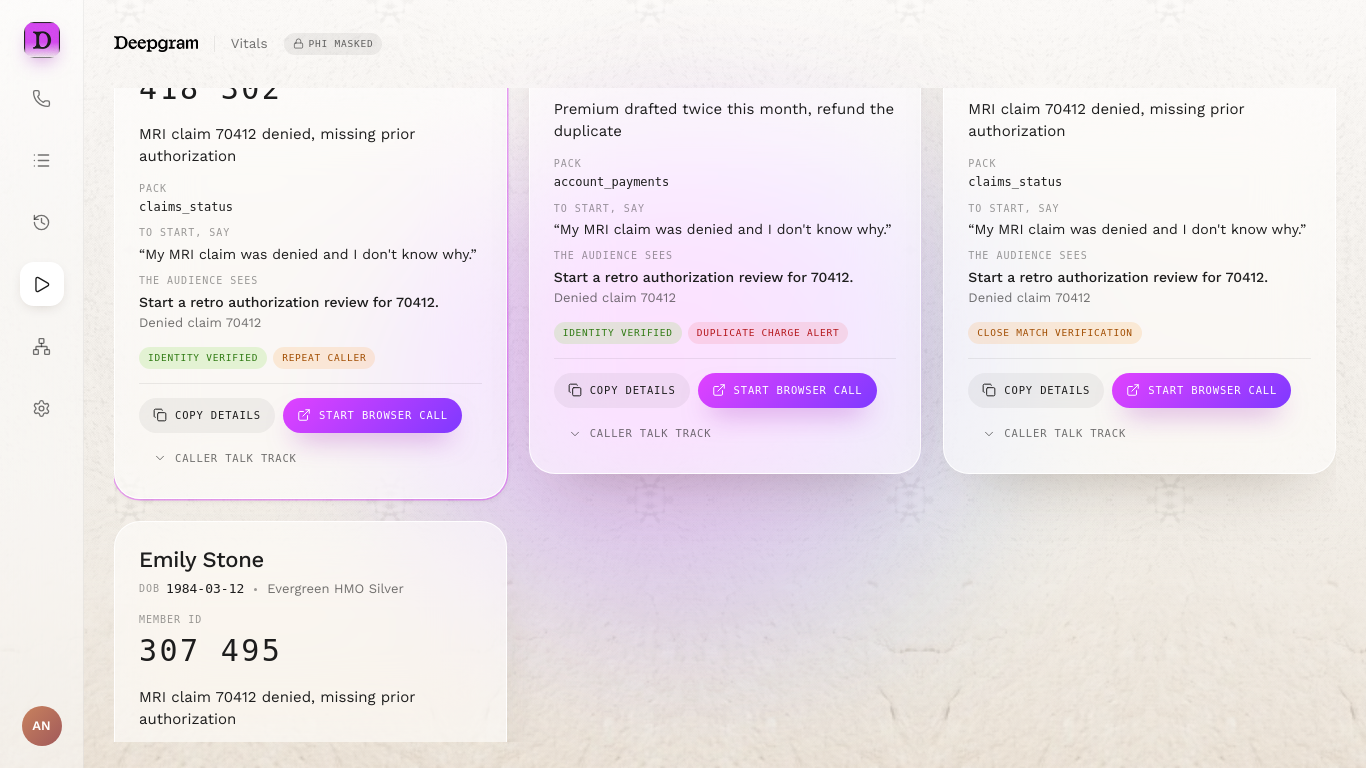
Demos page (P5-10) › actions › Copy details copies name, DOB, and member ID
This screenshot has width=1366, height=768.
(page scrolled)
What coordinates should you click on to do the following:
click the button "Copy details" below "Repeat caller"
I would click on:
 (207, 415)
Its box is [139,398,275,433].
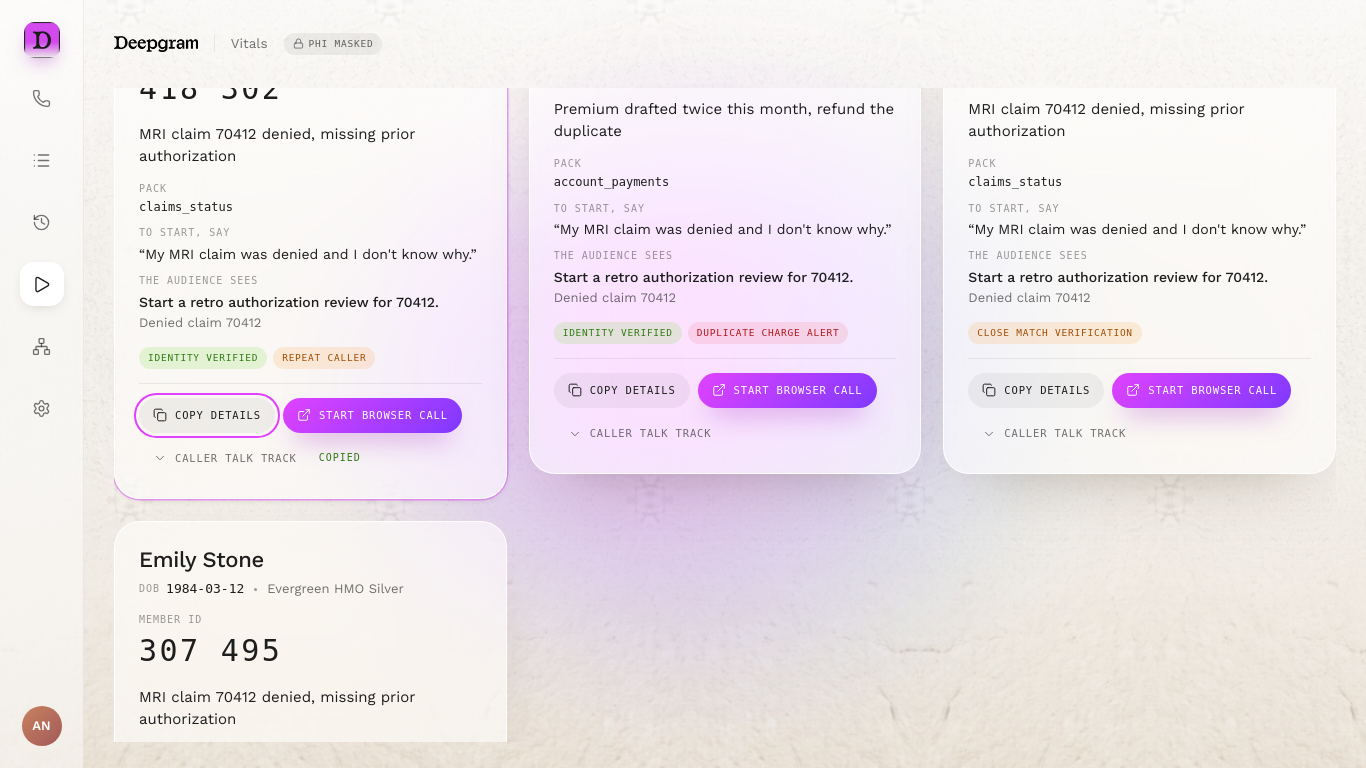
Check: the message reads "Copied", box [319,452,361,463]
